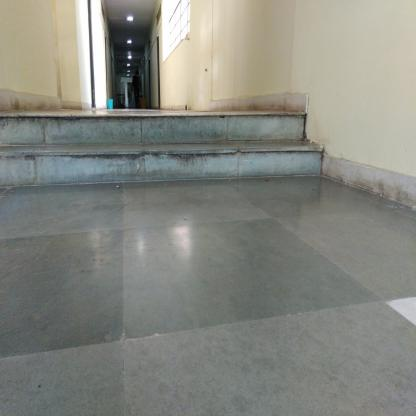stairs: (1, 108, 307, 191)
